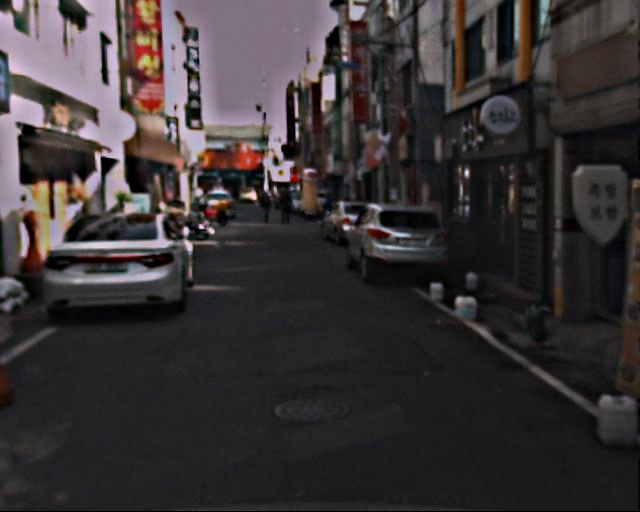person: (275, 184, 295, 233), (260, 194, 276, 233)
